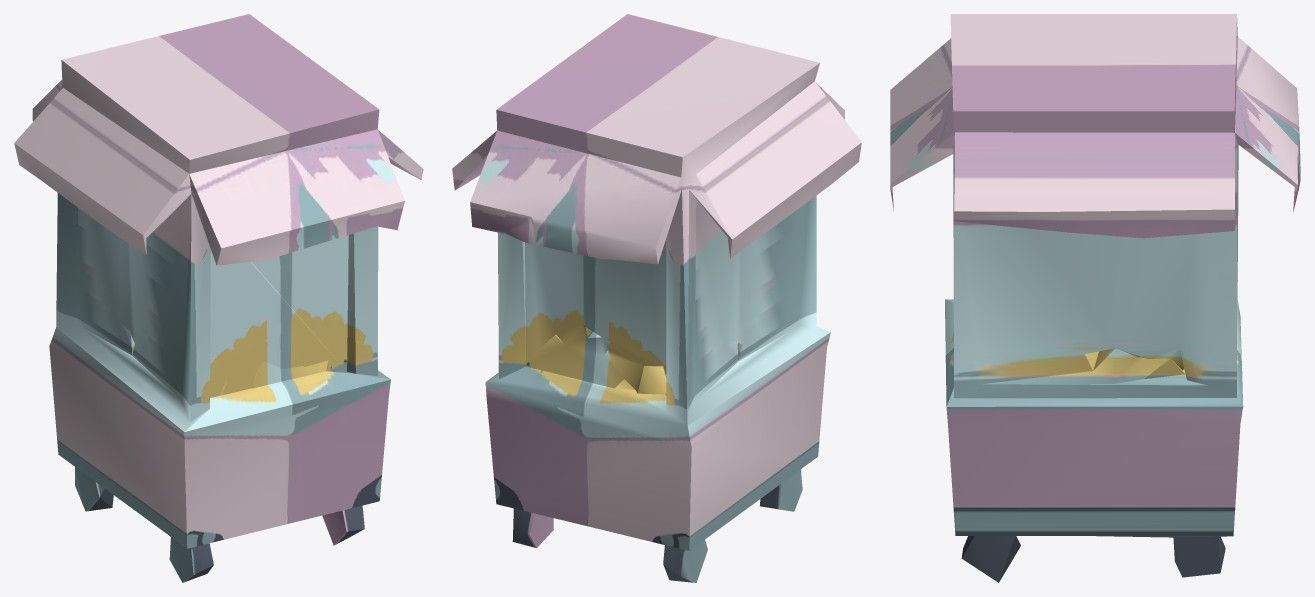
3 renders of one model, left to right at view 1: azimuth 30°, elevation 25°; view 2: azimuth 150°, elevation 25°; view 3: azimuth 270°, elevation 25°, orthographic. The views are drawn at different scales.
Visible parts, largest first — view 1: Decor_popcorn_cart; view 2: Decor_popcorn_cart; view 3: Decor_popcorn_cart.
Part boxes in pixels (x1,y1,x2,y2): Decor_popcorn_cart: (14,14,423,582); Decor_popcorn_cart: (452,14,861,582); Decor_popcorn_cart: (890,14,1300,582).
Size of the model in its own units: 1.26 by 1.9 by 1.48.
1 material, 1 textured.
